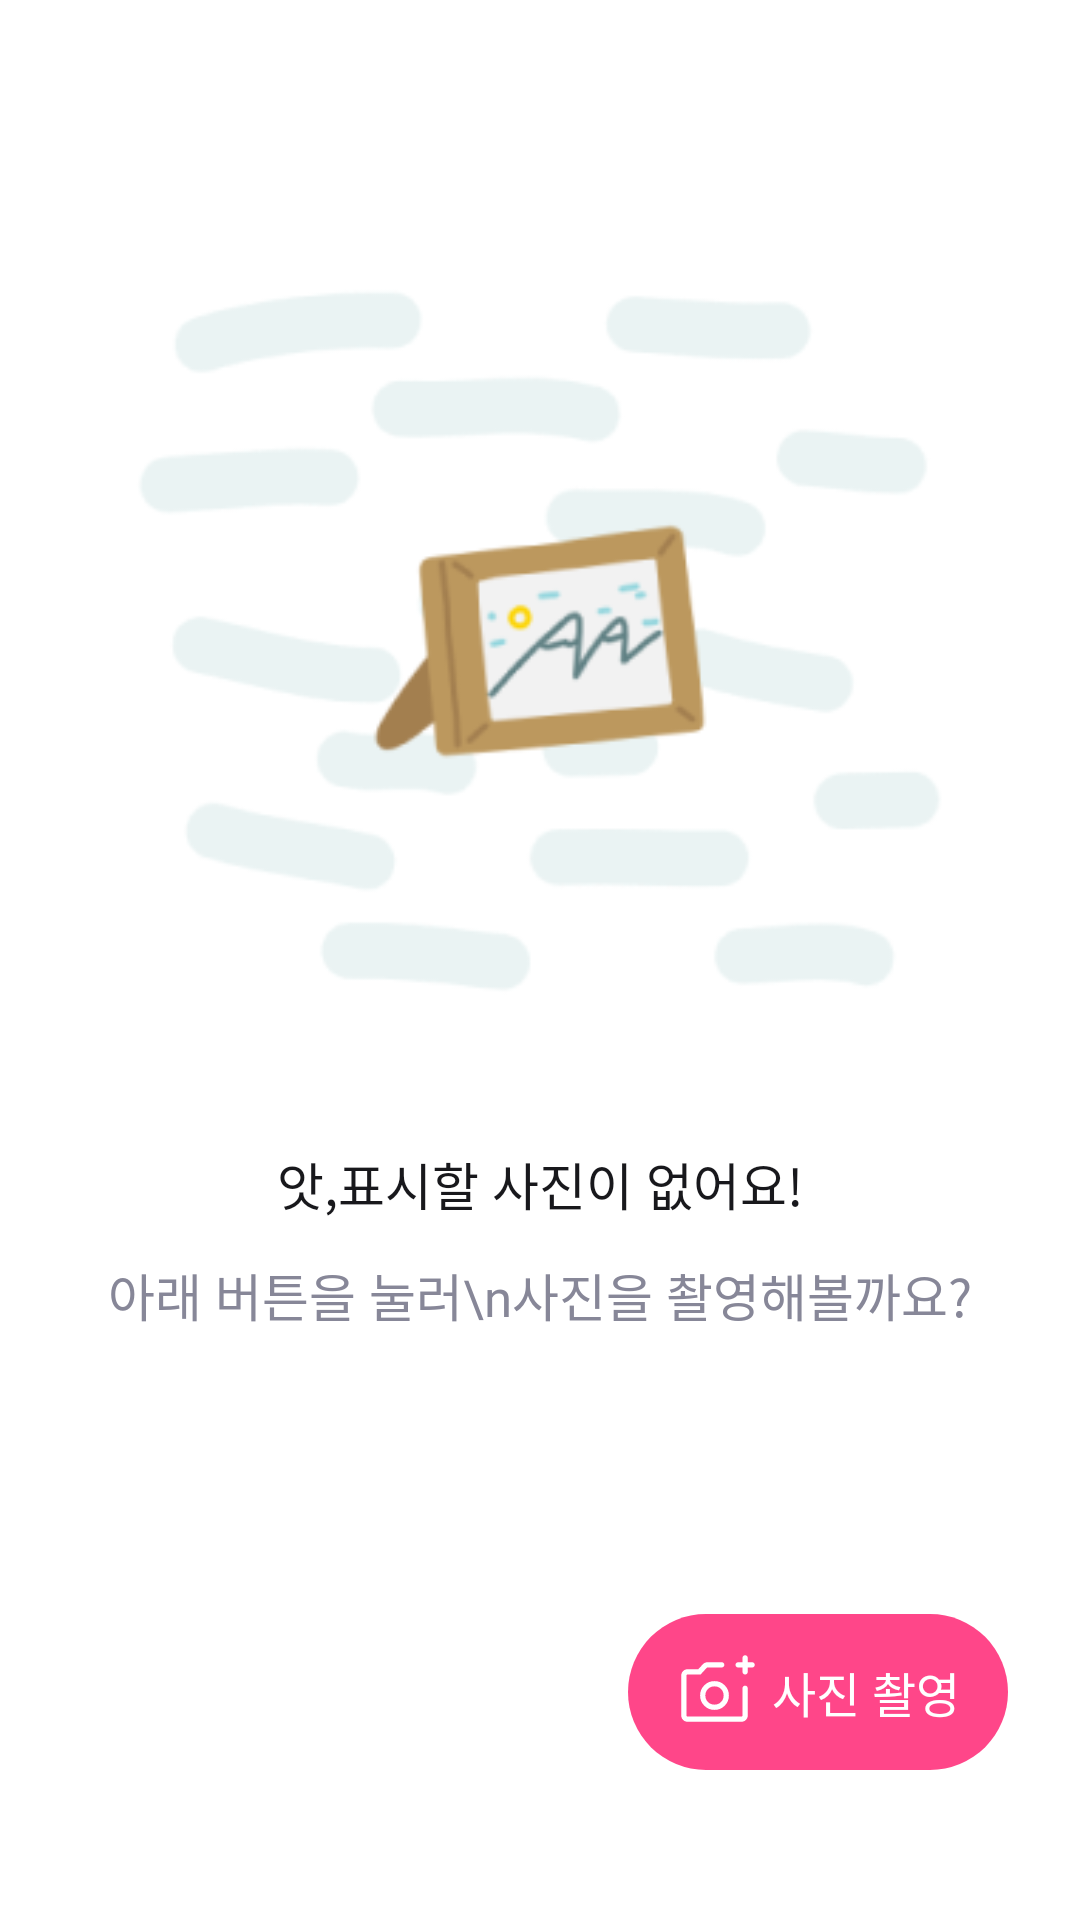

Icons on this 1080px x 1920px Android screen, each with the point to tap as (x,y):
add photo: (718,1688)
